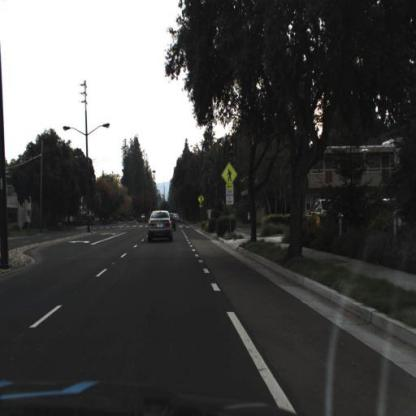car: (145, 210, 175, 248), (311, 198, 339, 226), (169, 210, 177, 237)
